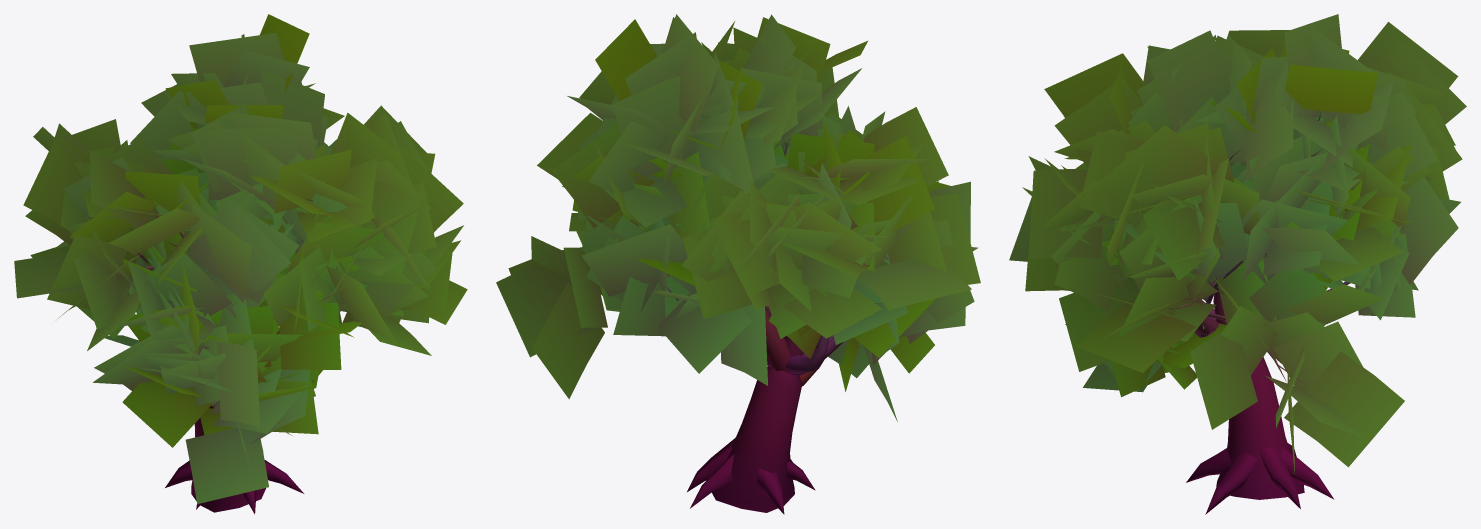
The model's file is oak_b.glb.
The picture shows the model from 3 angles, left to right: view 1: azimuth 30°, elevation 25°; view 2: azimuth 150°, elevation 25°; view 3: azimuth 270°, elevation 25°; orthographic projection. The views are drawn at different scales.
Visible parts, largest first — view 1: oak_b_LOD0; view 2: oak_b_LOD0; view 3: oak_b_LOD0.
Boxes of the visible parts, x1,y1,x2,y2 form: oak_b_LOD0: [14, 14, 467, 514]; oak_b_LOD0: [496, 14, 980, 514]; oak_b_LOD0: [1009, 14, 1466, 514].
Size of what is drawn, in the model's own units: 10.91 by 11.01 by 9.21.
